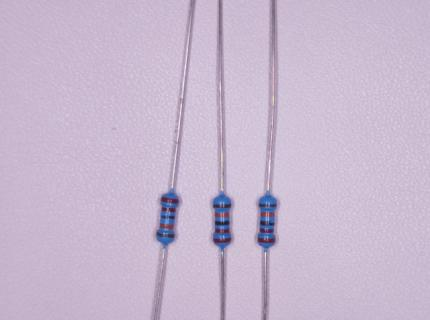Black band: (260, 221, 275, 225), (161, 215, 175, 219), (215, 221, 229, 225)
Brown band: (157, 232, 175, 238), (259, 203, 277, 207), (214, 204, 231, 208)
Orange band: (160, 223, 174, 229), (215, 213, 229, 217), (261, 213, 275, 216)
Red band: (161, 197, 179, 203), (214, 238, 231, 243), (258, 238, 275, 243), (260, 228, 274, 233), (162, 207, 175, 212), (216, 229, 230, 233)
